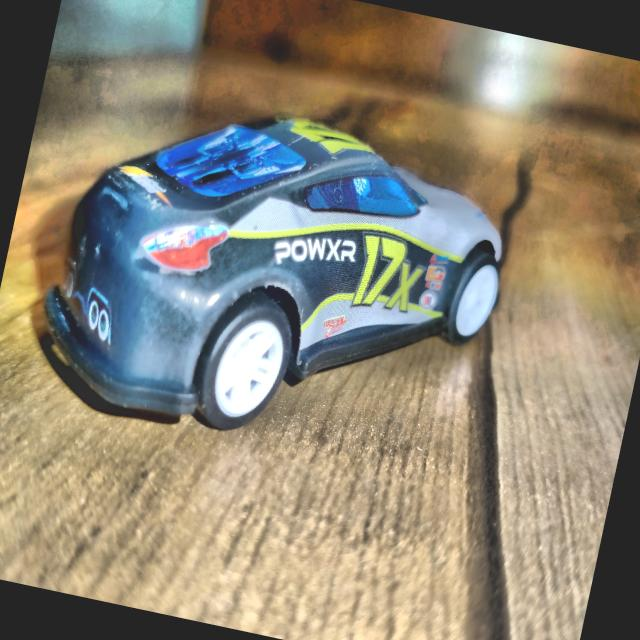Car: (28, 77, 524, 480)
